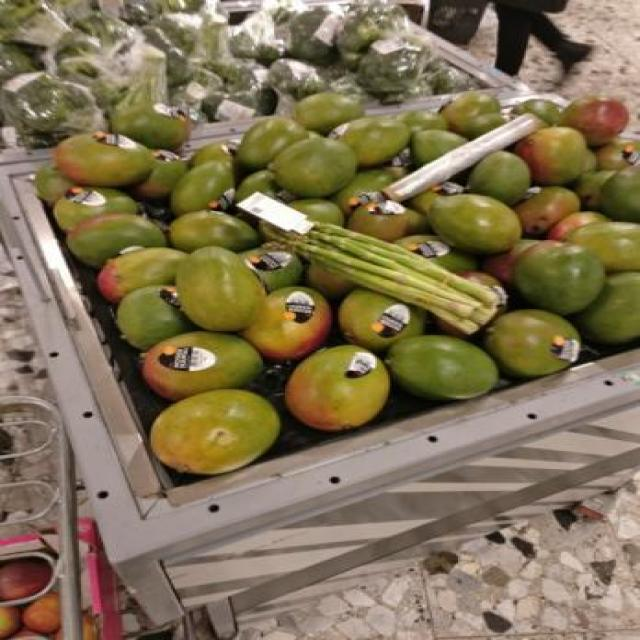Asparagus: (270, 204, 508, 333)
